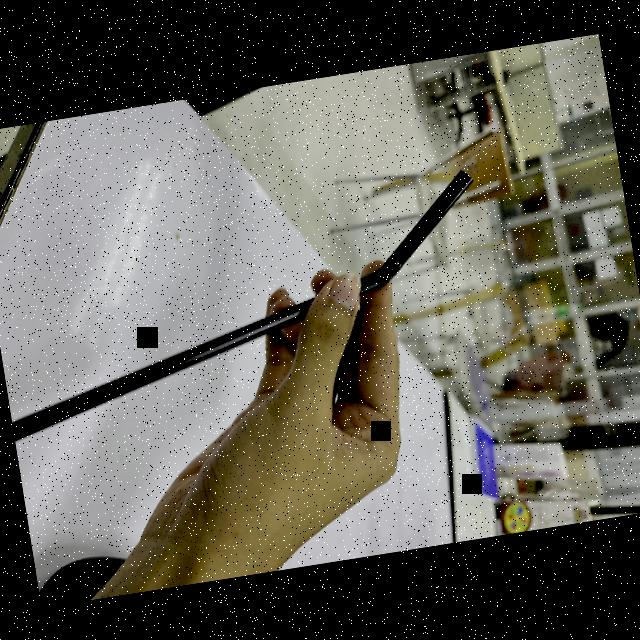straw: (0, 162, 510, 447)
